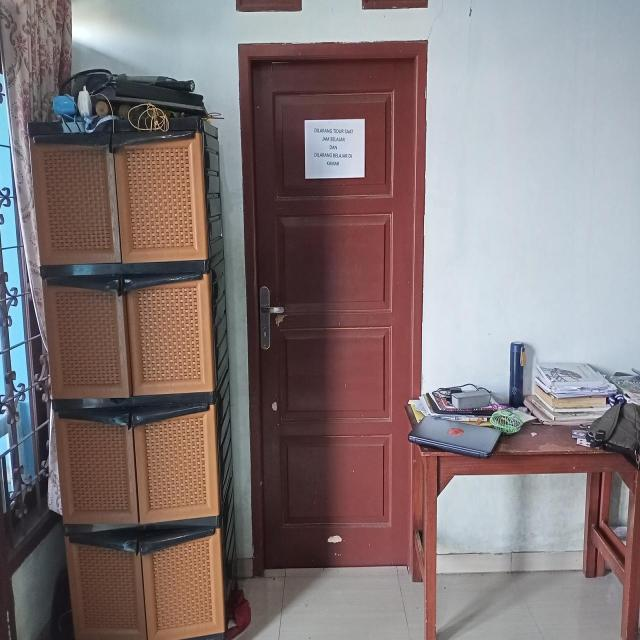door: (238, 42, 422, 566)
